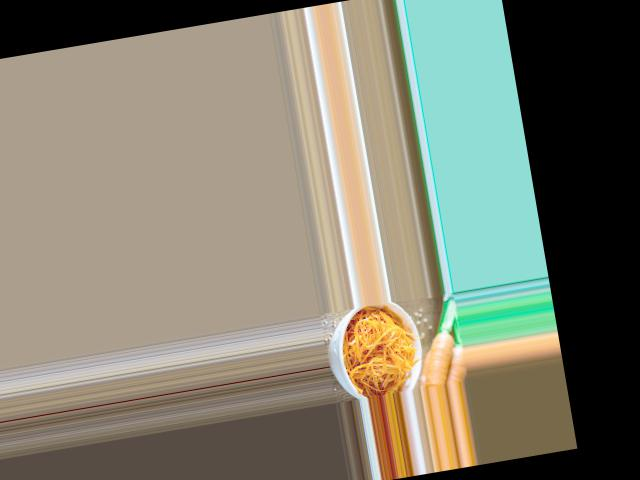carrot: (419, 328, 458, 386)
